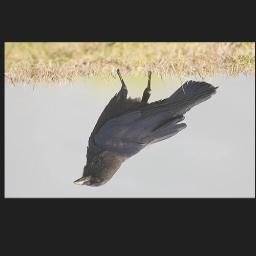Crow: (71, 68, 218, 188)
